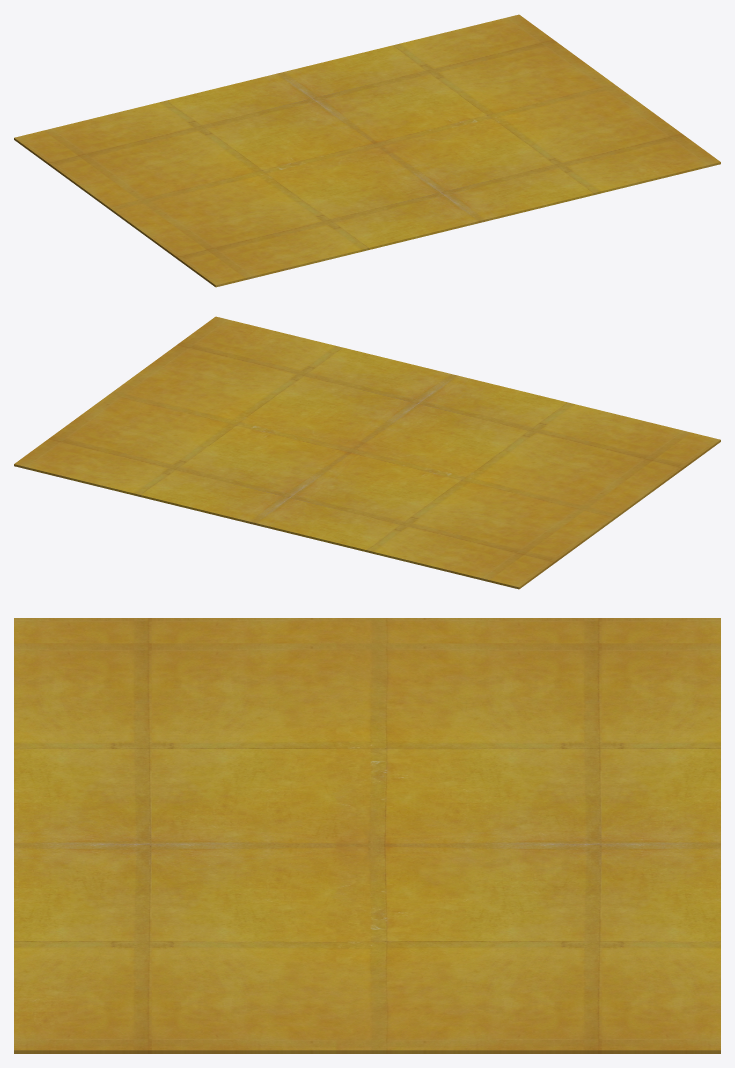
Rendered from SM_SJJ_HG_Floor01A.fbx.
3 renders of one model, top to bottom at view 1: azimuth 30°, elevation 25°; view 2: azimuth 150°, elevation 25°; view 3: azimuth 270°, elevation 25°, orthographic. The views are drawn at different scales.
Parts seen in each view (by area): view 1: SM_SJJ_HG_Floor01A; view 2: SM_SJJ_HG_Floor01A; view 3: SM_SJJ_HG_Floor01A.
Part boxes in pixels (x1,y1,x2,y2): SM_SJJ_HG_Floor01A: [14, 14, 720, 287]; SM_SJJ_HG_Floor01A: [14, 316, 720, 589]; SM_SJJ_HG_Floor01A: [14, 618, 720, 1053].
Size of the model in its own units: 466 by 322 by 1.82.
1 material, 1 textured.
